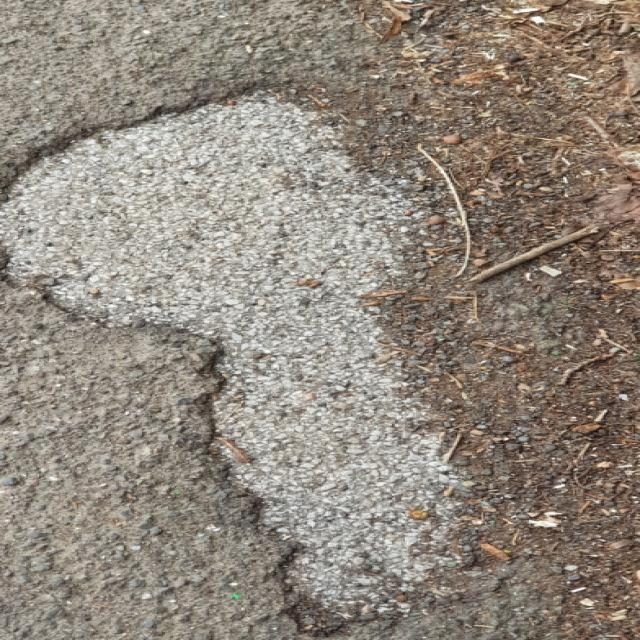pothole: (0, 71, 482, 628)
